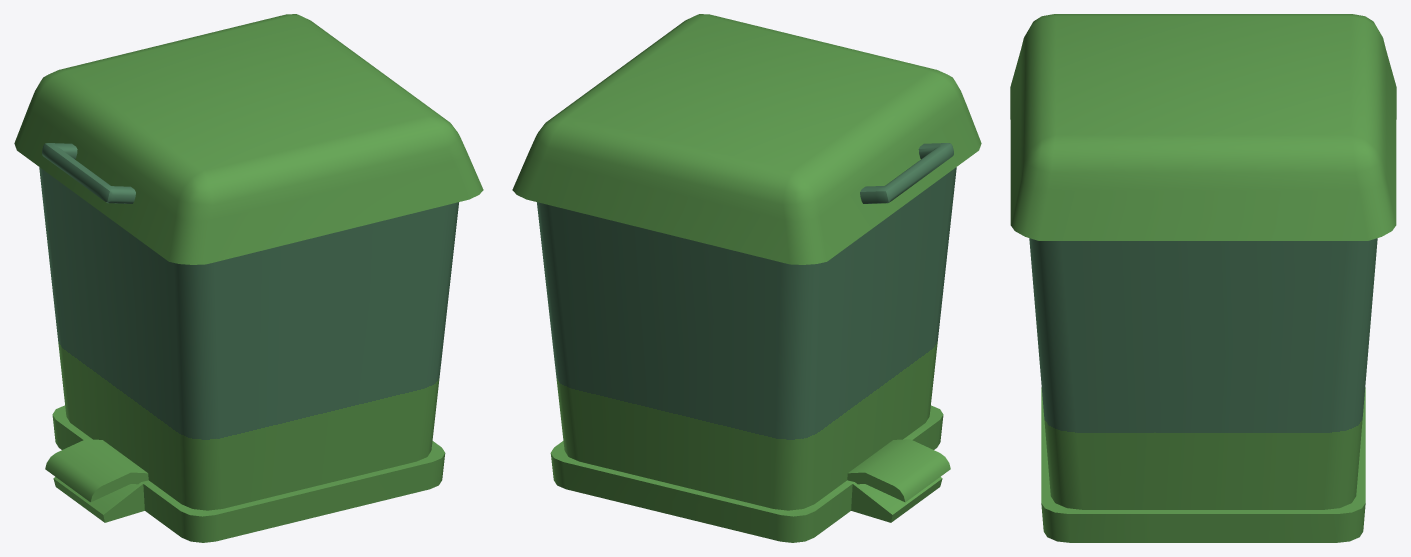
The model's file is cesto_recu.fbx.
3 views of the same model, side by side, from view 1: azimuth 30°, elevation 25°; view 2: azimuth 150°, elevation 25°; view 3: azimuth 270°, elevation 25° (orthographic). The views are drawn at different scales.
Parts seen in each view (by area): view 1: cesto_recu.001, cestro_recuptapa.001; view 2: cesto_recu.001, cestro_recuptapa.001; view 3: cesto_recu.001, cestro_recuptapa.001.
Boxes of the visible parts, box(x1,y1,x2,y2) form: cesto_recu.001: box(39, 167, 458, 542); cestro_recuptapa.001: box(14, 14, 483, 264); cesto_recu.001: box(537, 167, 956, 542); cestro_recuptapa.001: box(512, 14, 981, 264); cesto_recu.001: box(1029, 238, 1377, 542); cestro_recuptapa.001: box(1010, 14, 1396, 240).
Size of the model in its own units: 158 by 166 by 145.
